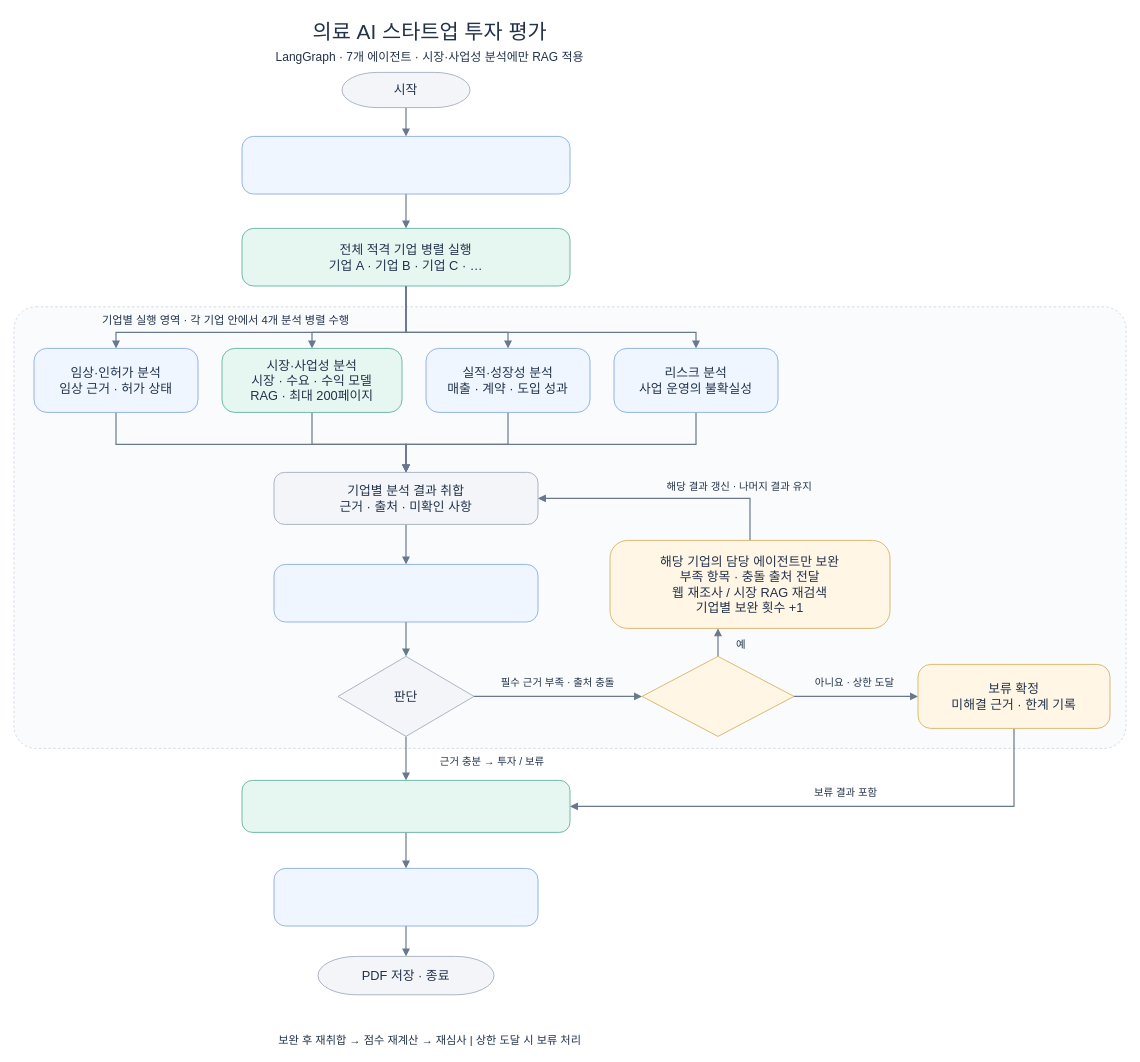
Some shapes in this 1140 by 1062 pixel diagram are drawn without their labels. Here are the shapes that lost their labels. From the top down, the centre of each, then its label:
(x=405, y=165): 데이터 입력·정규화 제공 데이터셋 · 공통 입력 · 추가 수집 없음
(x=405, y=593): 기업별 투자 심사 Python 점수 계산 · 근거 검토
(x=717, y=696): 보완 횟수가 상한 미만인가?
(x=405, y=806): 전체 기업 결과 취합 모든 기업의 투자·보류 판단 완료 후
(x=405, y=897): 최종 보고서 작성 기업별 평가 · 투자·보류 근거
